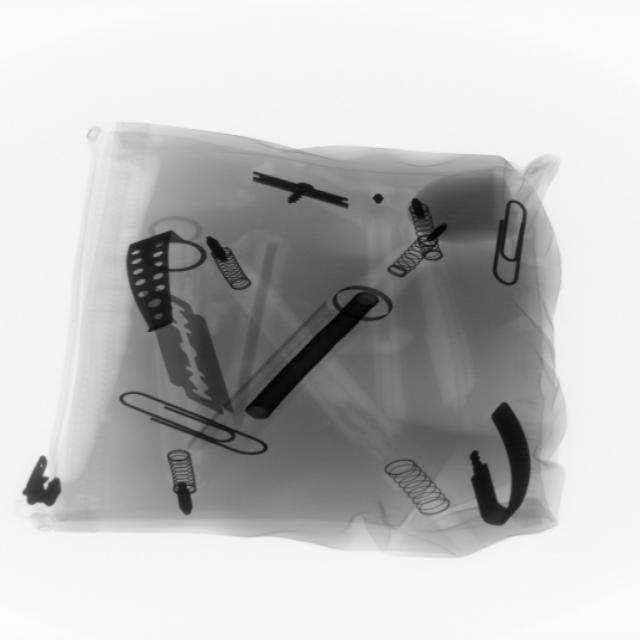BLADE: (152, 292, 235, 423)
